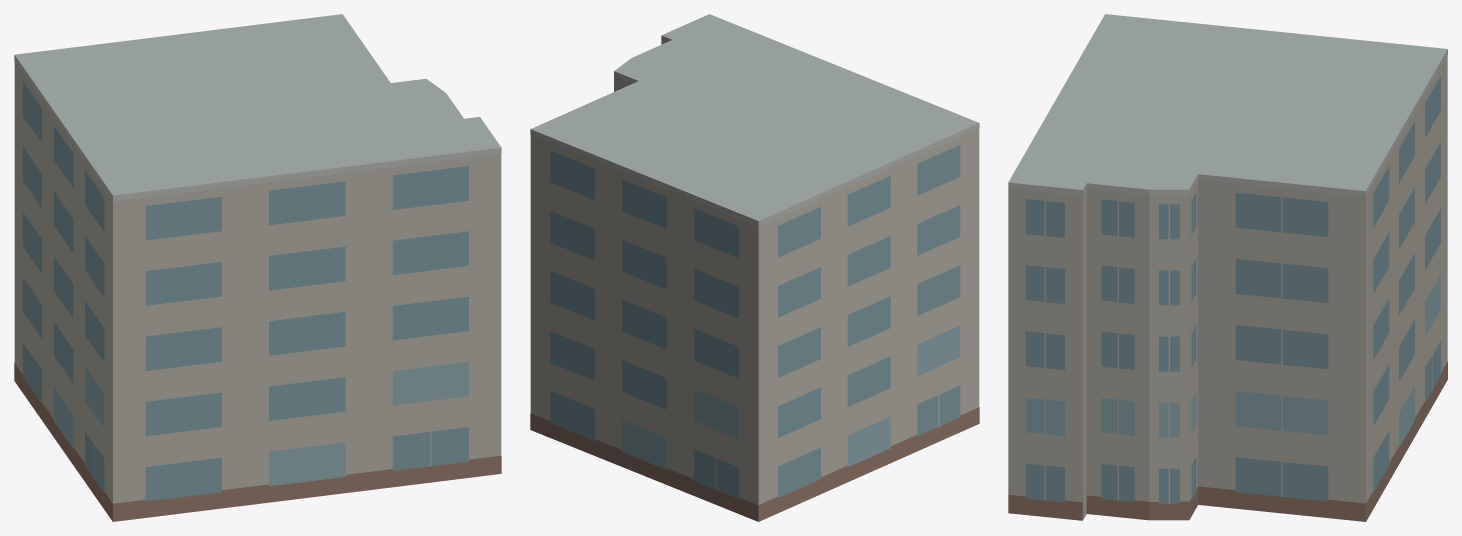
The model's file is survey-upis-32742234.glb.
3 views of the same model, side by side, from view 1: azimuth 30°, elevation 25°; view 2: azimuth 150°, elevation 25°; view 3: azimuth 270°, elevation 25° (orthographic). The views are drawn at different scales.
Parts seen in each view (by area): view 1: survey-upis-32742234.tmp; view 2: survey-upis-32742234.tmp; view 3: survey-upis-32742234.tmp.
Part boxes in pixels (bbox=[...]): survey-upis-32742234.tmp: bbox=[14, 14, 501, 521]; survey-upis-32742234.tmp: bbox=[530, 14, 979, 521]; survey-upis-32742234.tmp: bbox=[1008, 14, 1447, 521].
Bounding box in the file's own units: 15.53 × 13.5 × 16.27.
